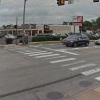crosswalk: (21, 48, 100, 81)
